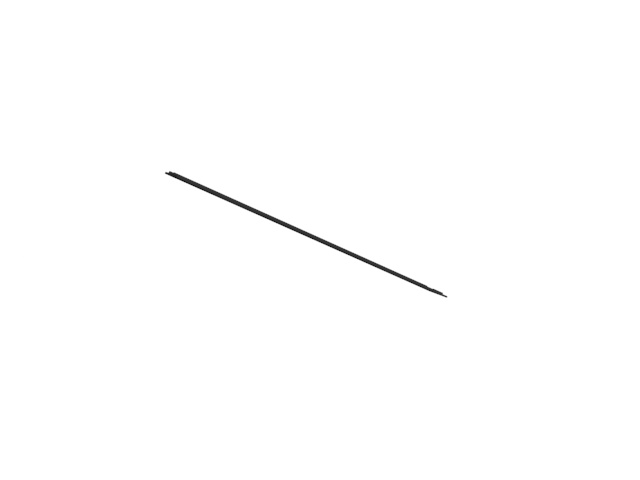ruler: (161, 169, 448, 304)
